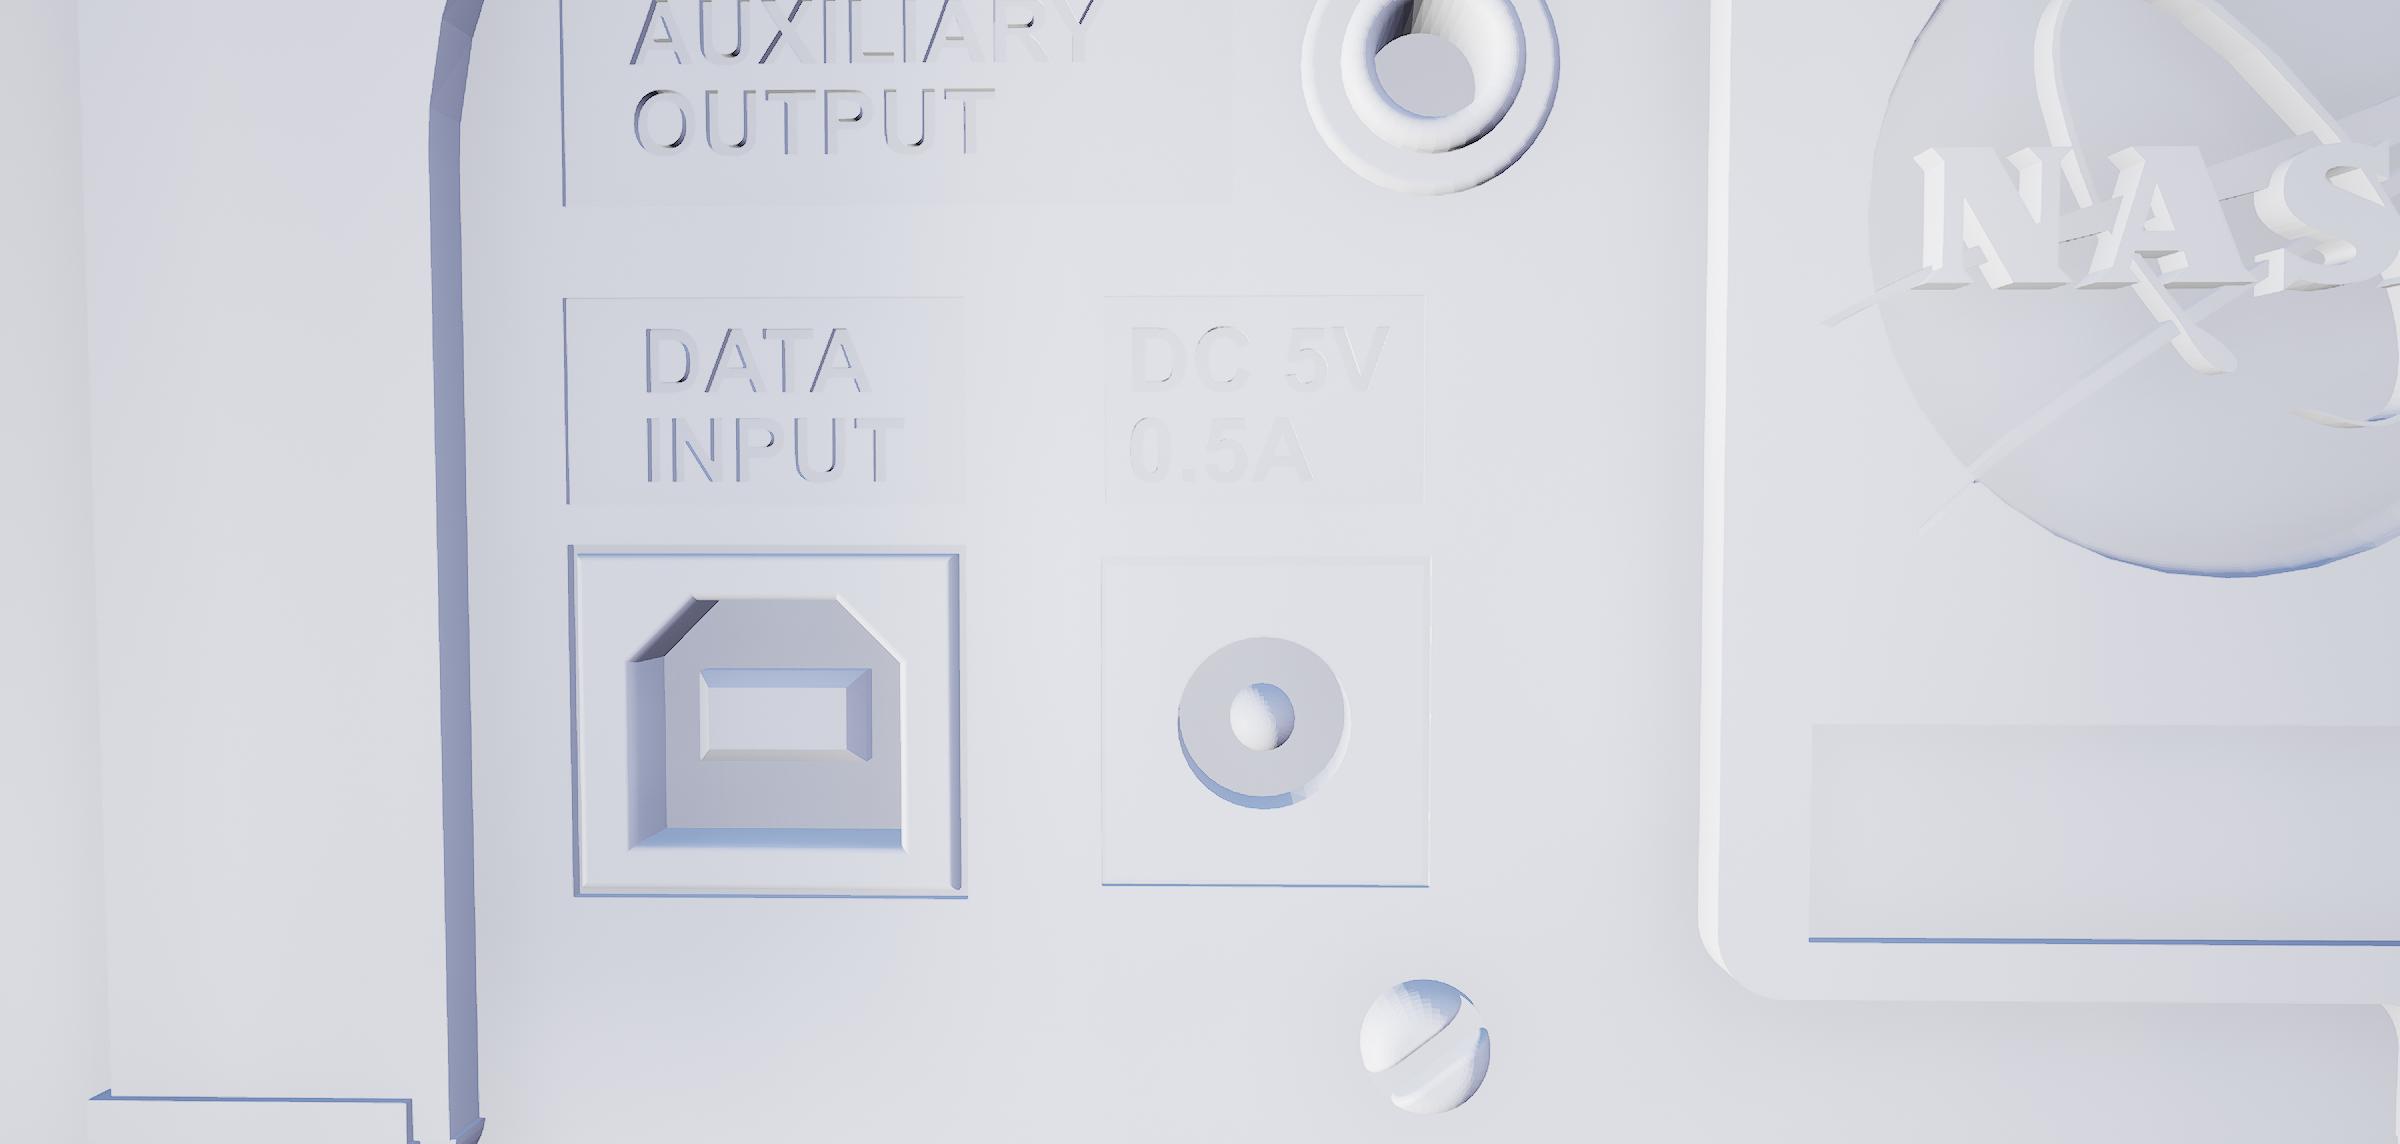aux: (1278, 2, 1573, 211)
dc: (1163, 619, 1365, 832)
usb: (611, 580, 928, 879)
